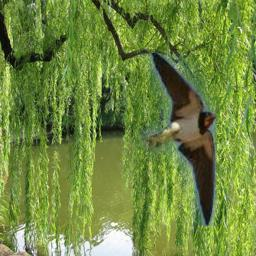Swallow: (114, 53, 217, 226)
